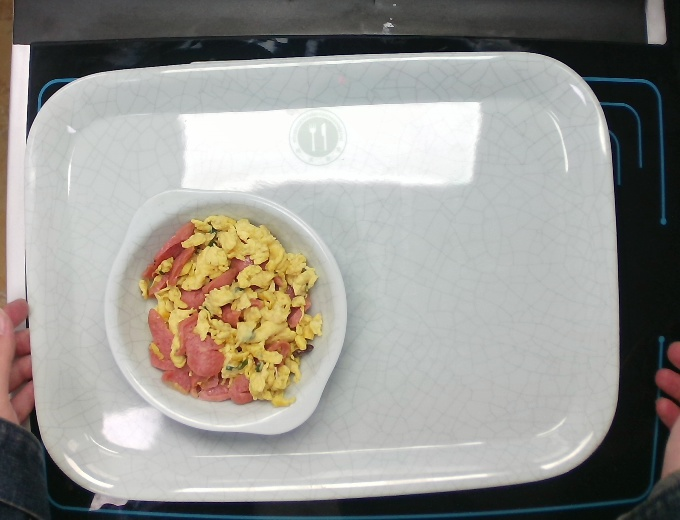JYsf-Shuang_Er_Wan: (99, 184, 352, 440)
